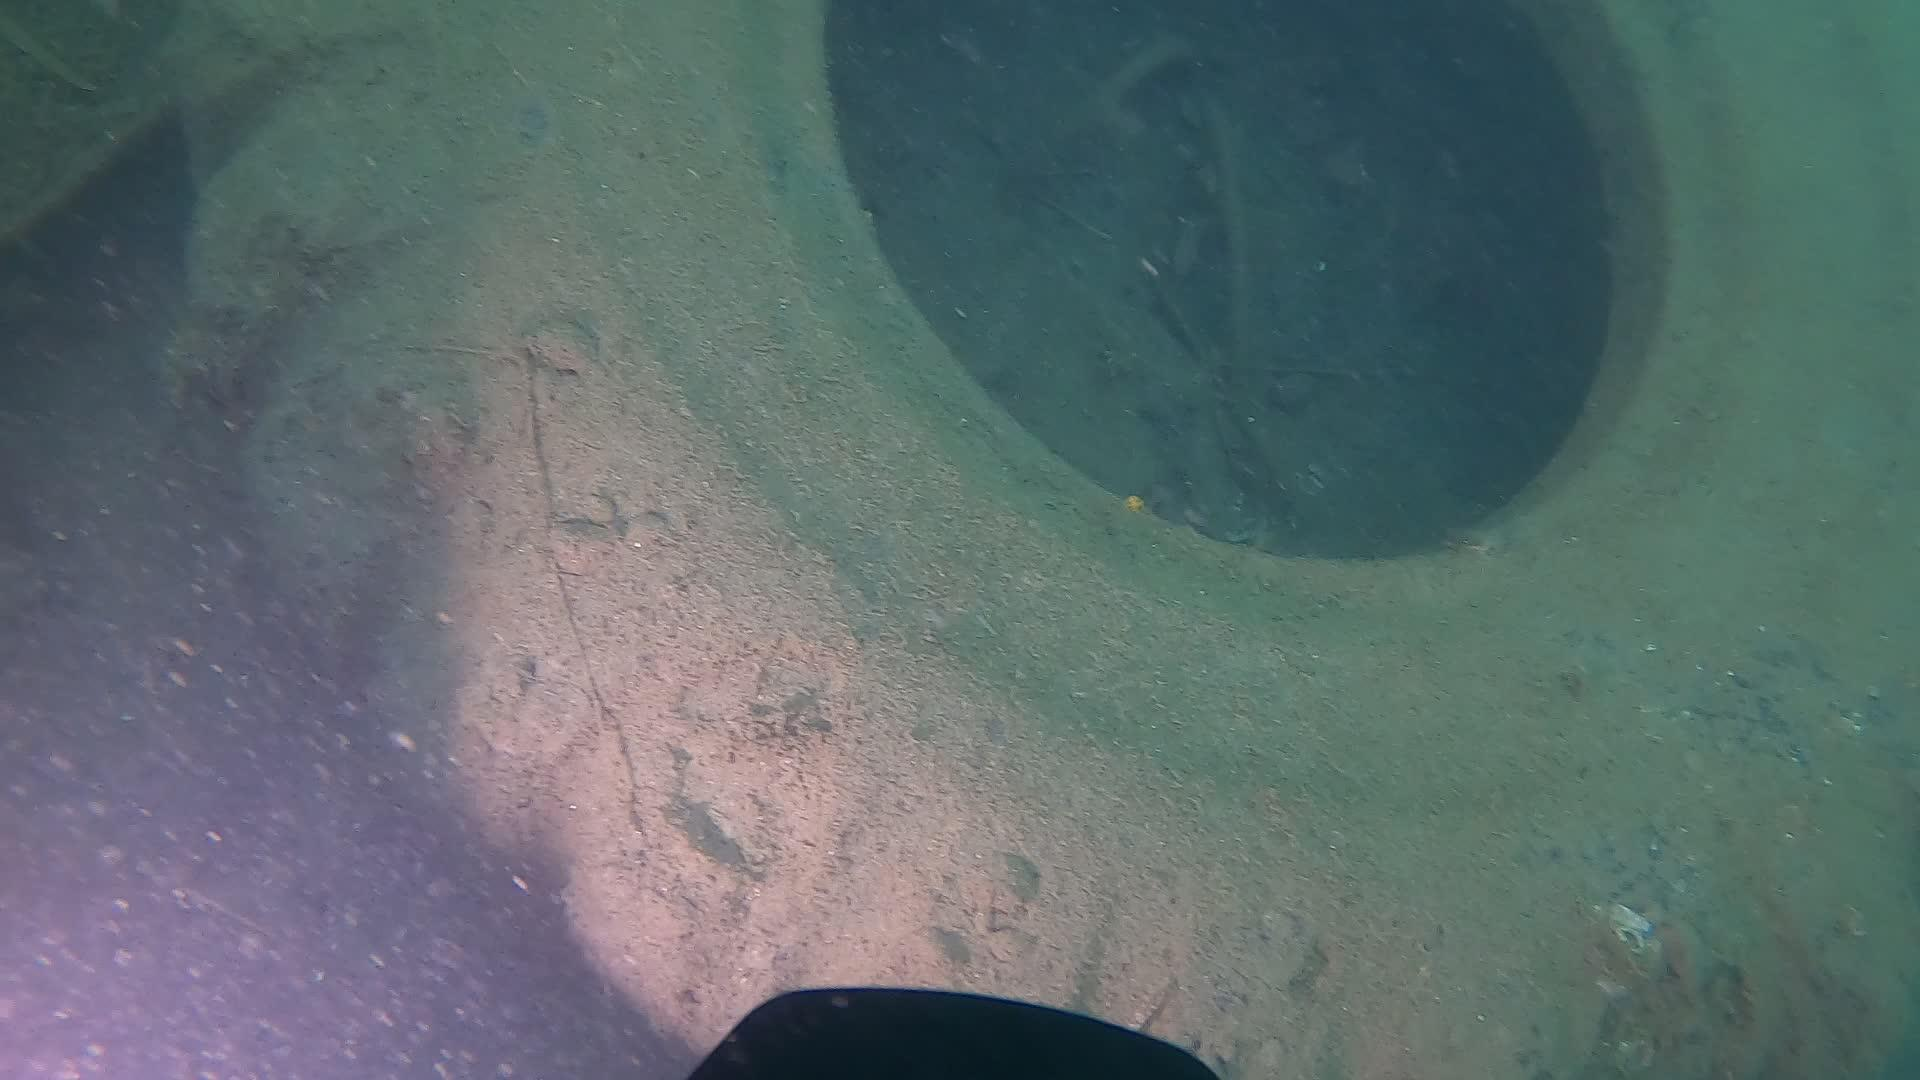tire: (182, 0, 1920, 1080)
